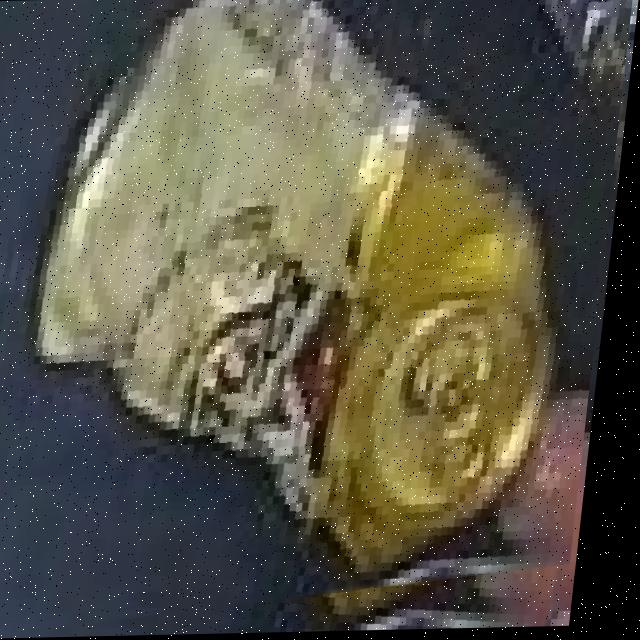can: (0, 0, 604, 604)
